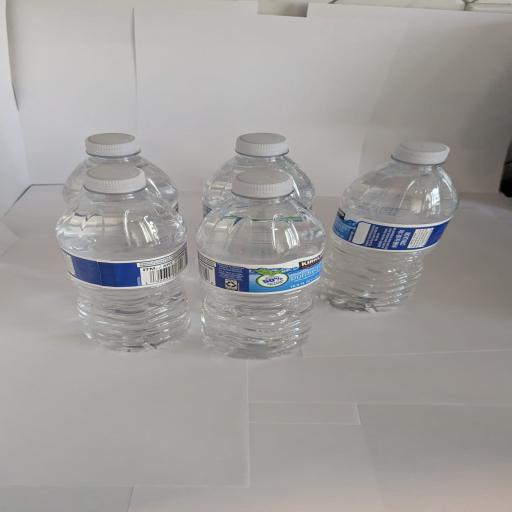waterbottle: (57, 165, 189, 351), (197, 171, 325, 358), (319, 142, 457, 311), (203, 133, 314, 216), (63, 133, 178, 210)
